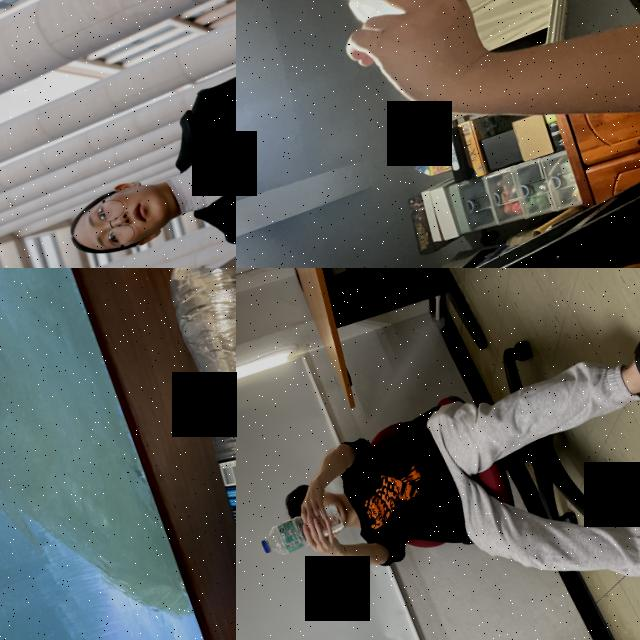bottle: (122, 268, 236, 640), (255, 498, 347, 562)
